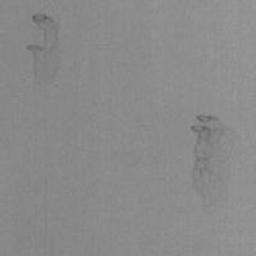Water spot: (190, 114, 231, 202), (26, 13, 58, 80)
